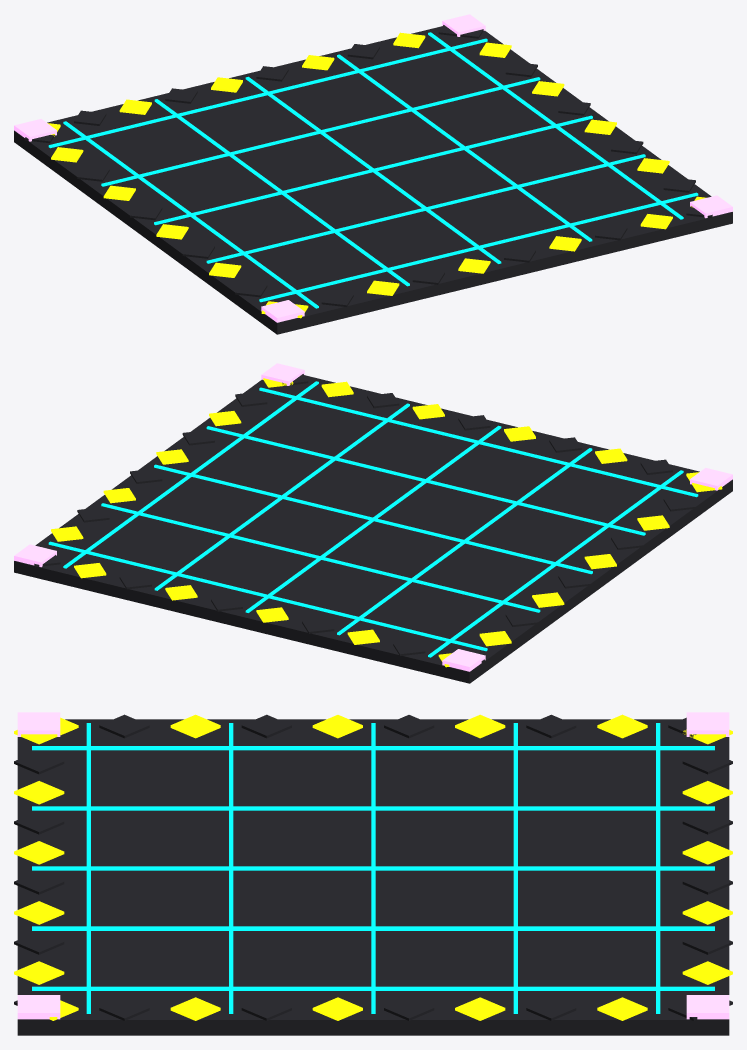
Rendered from Build_Pad.fbx.
The picture shows the model from 3 angles, top to bottom: view 1: azimuth 30°, elevation 25°; view 2: azimuth 150°, elevation 25°; view 3: azimuth 270°, elevation 25°; orthographic projection. The views are drawn at different scales.
Visible parts, largest first — view 1: Pad_Slab, Pad_GridY1, Pad_GridY4, Pad_GridY3, Pad_GridY0, Pad_GridY2, Pad_GridX3, Pad_GridX2, Pad_GridX4, Pad_GridX0, Pad_GridX1, Pad_Corner3 (+3 smaller); view 2: Pad_Slab, Pad_GridY1, Pad_GridY3, Pad_GridY4, Pad_GridY2, Pad_GridY0, Pad_GridX3, Pad_GridX1, Pad_GridX4, Pad_GridX0, Pad_GridX2, Pad_Corner2 (+3 smaller); view 3: Pad_Slab, Pad_GridX3, Pad_GridX4, Pad_GridX1, Pad_GridX2, Pad_GridX0, Pad_GridY3, Pad_GridY2, Pad_GridY1, Pad_GridY0, Pad_GridY4, Pad_Corner0 (+35 smaller).
Part boxes in pixels (<box>): Pad_Slab: <box>14,26,732,334</box>; Pad_GridY1: <box>206,154,645,263</box>; Pad_GridY4: <box>48,38,487,148</box>; Pad_GridY3: <box>101,77,540,186</box>; Pad_GridY0: <box>259,192,698,302</box>; Pad_GridY2: <box>154,115,592,225</box>; Pad_GridX3: <box>337,54,592,241</box>; Pad_GridX2: <box>245,76,501,263</box>; Pad_GridX4: <box>428,32,683,219</box>; Pad_GridX0: <box>63,121,318,308</box>; Pad_GridX1: <box>154,99,409,286</box>; Pad_Corner3: <box>261,300,304,322</box>; Pad_Slab: <box>14,375,732,683</box>; Pad_GridY1: <box>206,426,645,535</box>; Pad_GridY3: <box>101,503,540,612</box>; Pad_GridY4: <box>48,541,487,651</box>; Pad_GridY2: <box>154,464,592,574</box>; Pad_GridY0: <box>259,387,698,497</box>; Pad_GridX3: <box>154,403,409,590</box>; Pad_GridX1: <box>337,448,592,635</box>; Pad_GridX4: <box>63,381,318,568</box>; Pad_GridX0: <box>428,470,683,657</box>; Pad_GridX2: <box>245,425,501,612</box>; Pad_Corner2: <box>442,649,485,671</box>; Pad_Slab: <box>17,719,729,1035</box>; Pad_GridX3: <box>32,926,714,930</box>; Pad_GridX4: <box>32,986,714,990</box>; Pad_GridX1: <box>32,806,714,810</box>; Pad_GridX2: <box>32,866,714,870</box>; Pad_GridX0: <box>32,746,714,750</box>; Pad_GridY3: <box>513,723,517,1013</box>; Pad_GridY2: <box>371,723,375,1013</box>; Pad_GridY1: <box>229,723,233,1013</box>; Pad_GridY0: <box>86,723,90,1013</box>; Pad_GridY4: <box>656,723,660,1013</box>; Pad_Corner0: <box>686,995,729,1019</box>.
Bounding box in the file's own units: 1.01 × 0.035 × 1.01.
